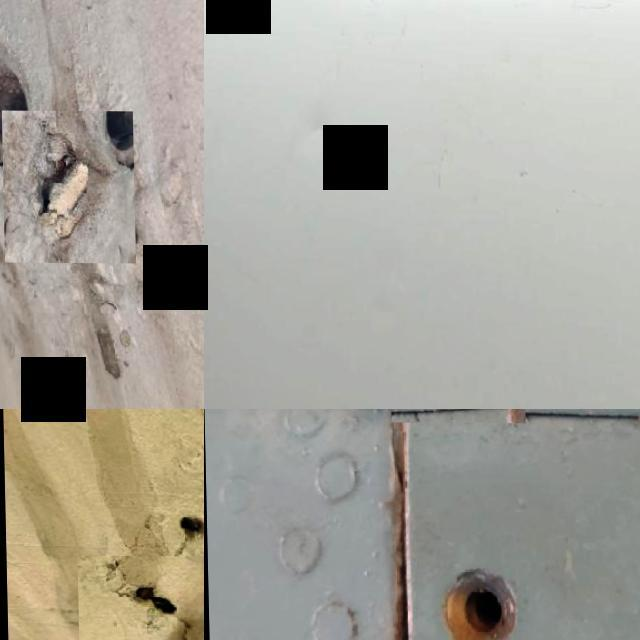Crack: (0, 110, 134, 263), (76, 555, 204, 640)
Dent: (295, 110, 332, 156)
Missing_Fastener: (396, 540, 549, 640)
